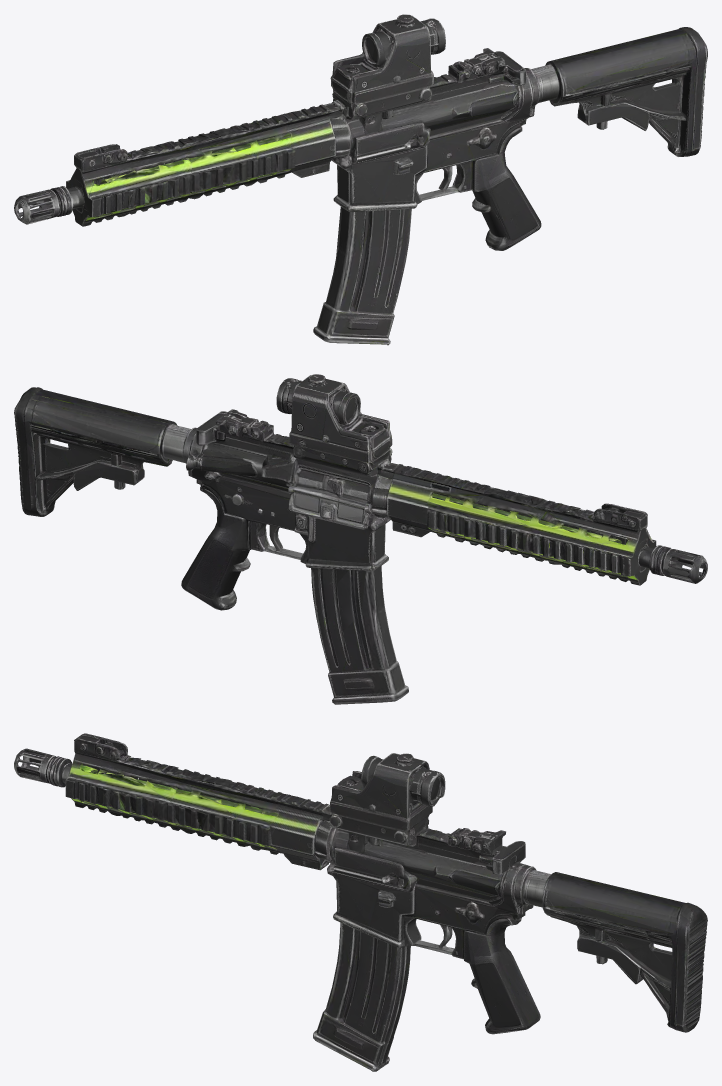
The model's file is gun_rifle.glb.
3 renders of one model, top to bottom at view 1: azimuth 30°, elevation 25°; view 2: azimuth 150°, elevation 25°; view 3: azimuth 330°, elevation 25°, orthographic.
Parts seen in each view (by area): view 1: Mesh_0; view 2: Mesh_0; view 3: Mesh_0.
Part boxes in pixels (box(x1,y1,x2,y2)): Mesh_0: box(14, 14, 707, 345); Mesh_0: box(14, 374, 707, 704); Mesh_0: box(14, 733, 707, 1071).
Bounding box in the file's own units: 1.9 × 0.845 × 0.1597.
Materials: 1 (1 with a texture image).
